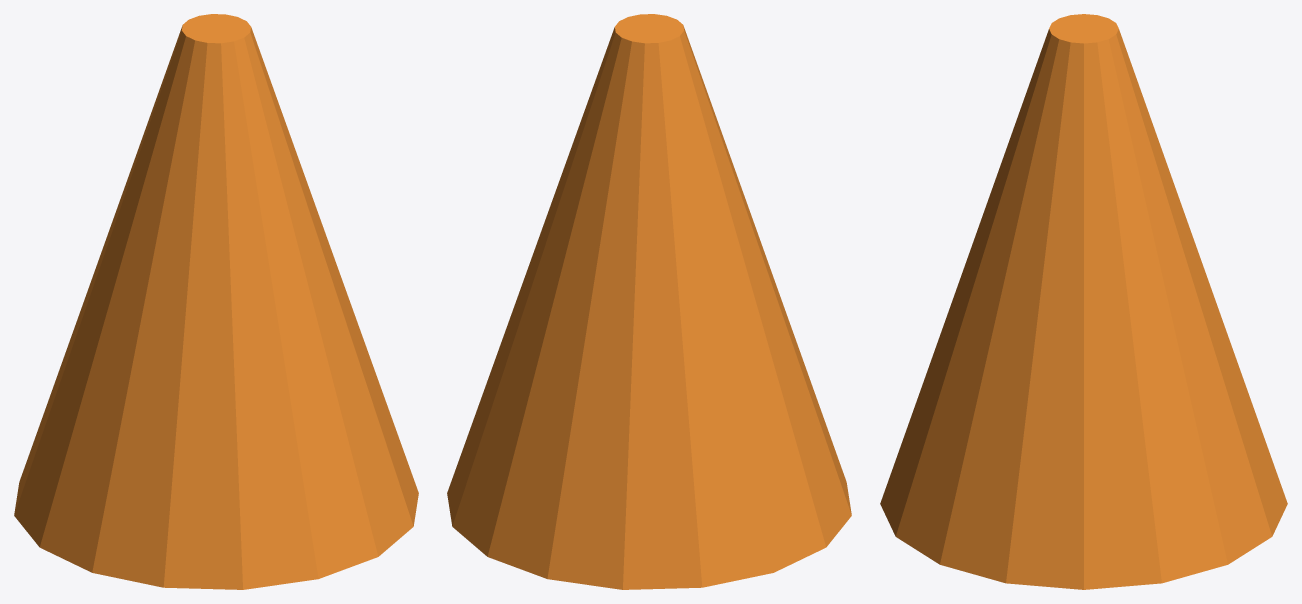
Rendered from Prop_Street_017.glb.
The picture shows the model from 3 angles, left to right: view 1: azimuth 30°, elevation 25°; view 2: azimuth 150°, elevation 25°; view 3: azimuth 270°, elevation 25°; orthographic projection.
Parts seen in each view (by area): view 1: Prop_Street_017; view 2: Prop_Street_017; view 3: Prop_Street_017.
Boxes of the visible parts, x1,y1,x2,y2 form: Prop_Street_017: (14,14,418,589); Prop_Street_017: (447,14,851,589); Prop_Street_017: (880,14,1287,589).
Bounding box in the file's own units: 0.7 × 0.9 × 0.7.
